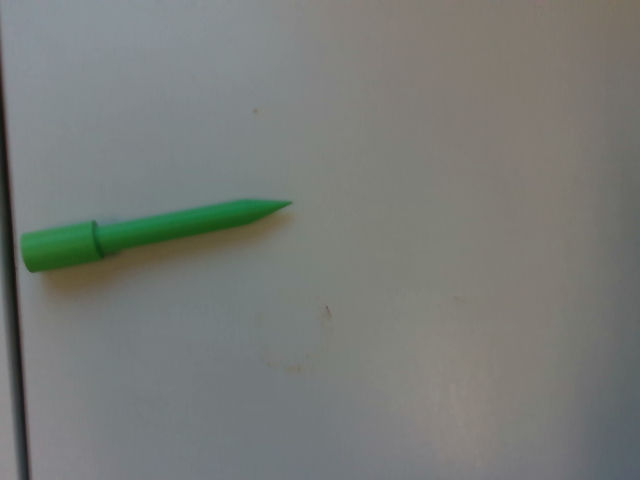Probe: (16, 190, 301, 277)
